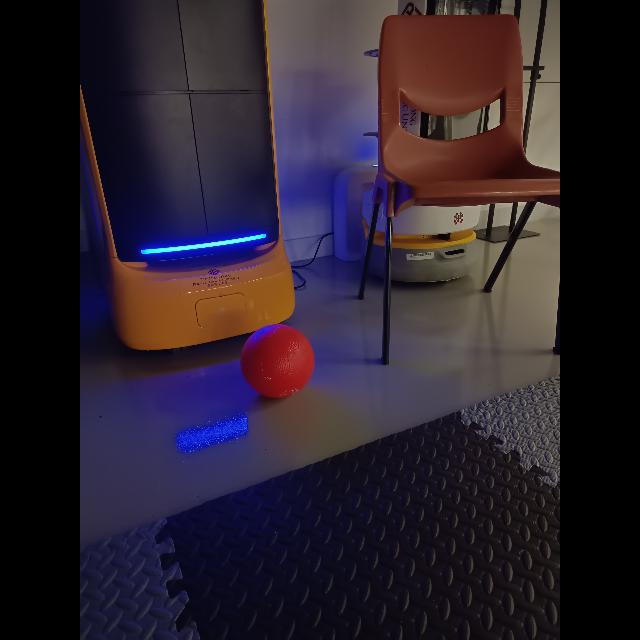R: (240, 324, 316, 402)
